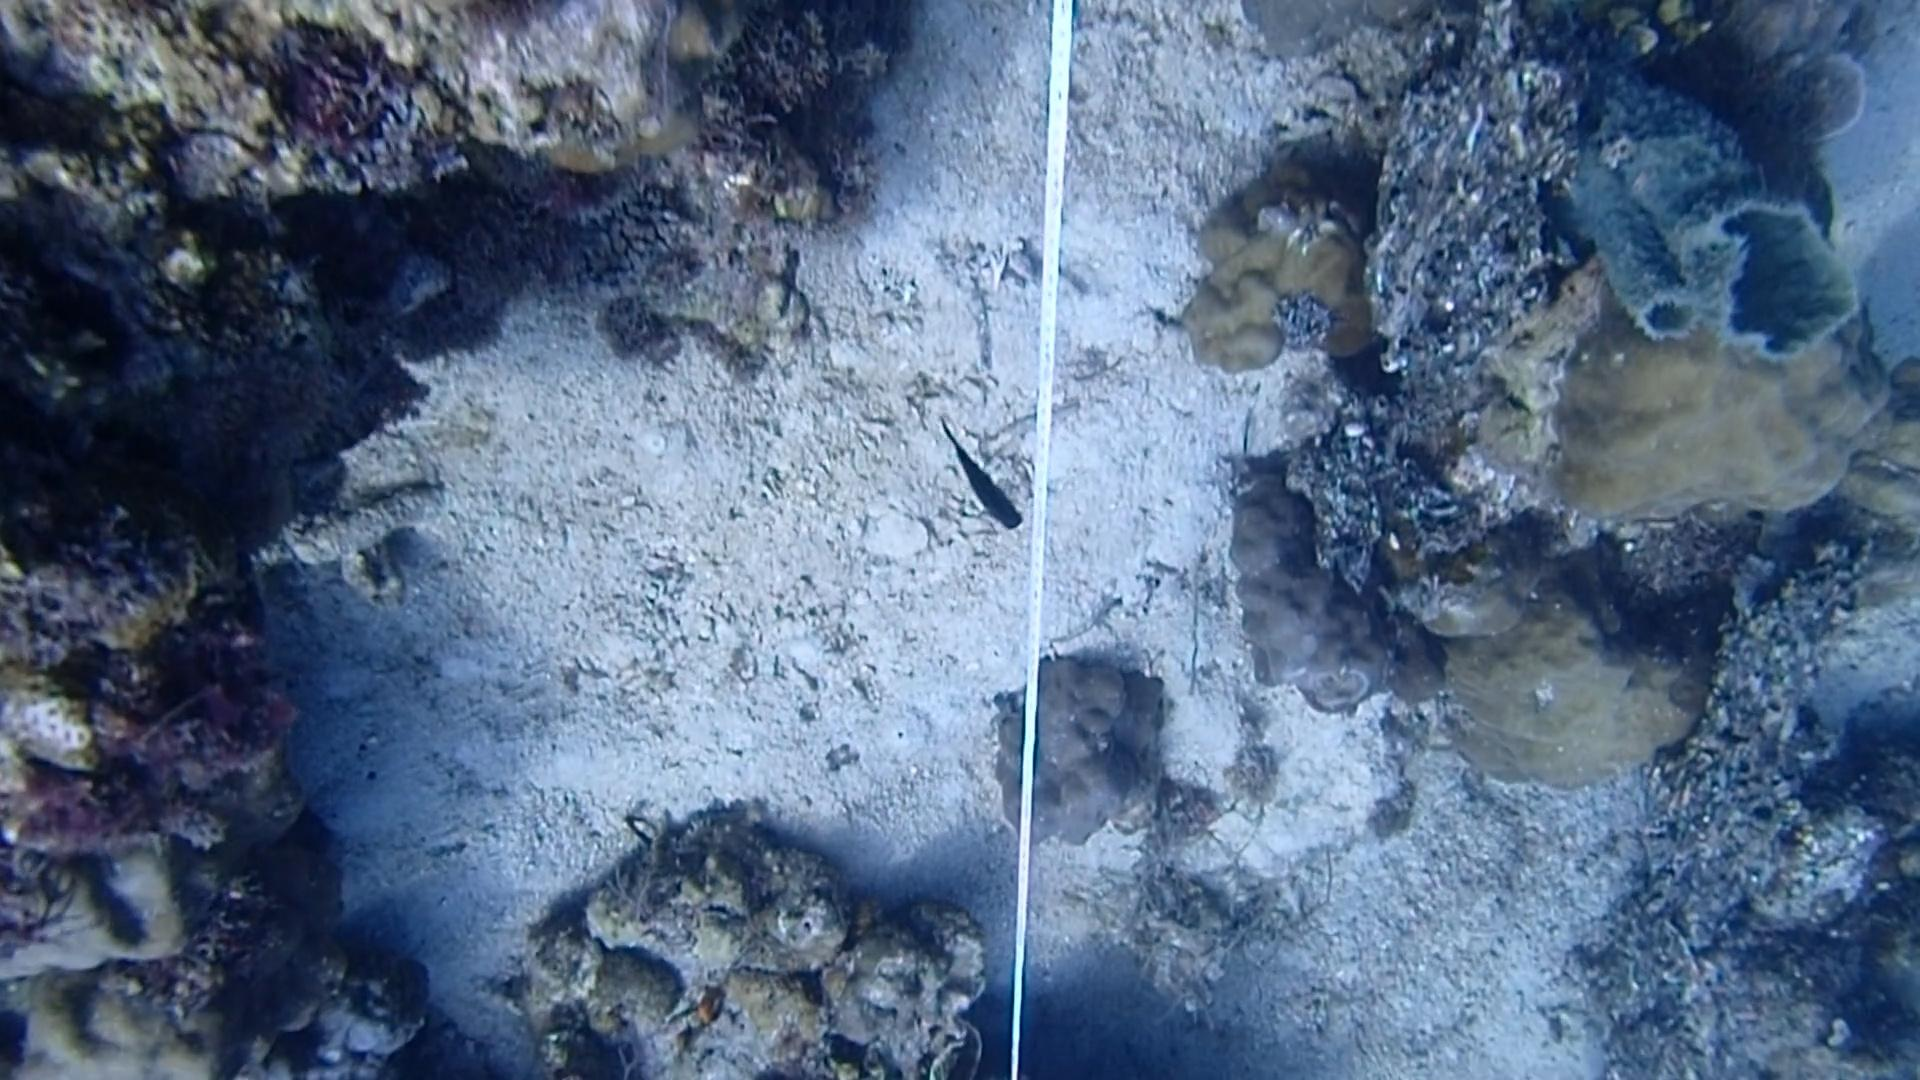Dark Fish: (931, 413, 1033, 542)
